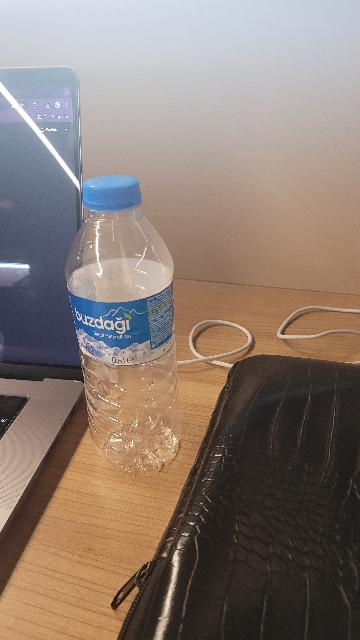Plastik: (68, 163, 185, 479), (75, 163, 143, 211)
